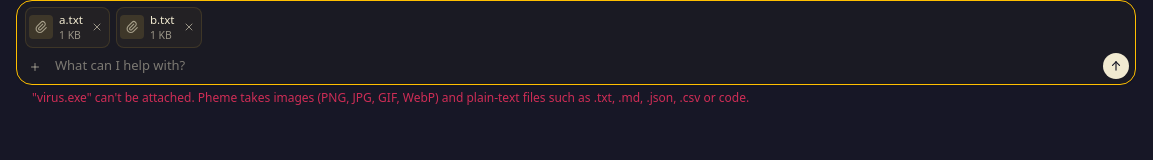
Test: Composer attachments › removes one file; refuses unsupported and oversize ones with a spoken reason, and keeps the good ones
The width and height of the screenshot is (1153, 160).
Earlier steps of the test are not shown.
Expected: the message shows "\"virus.exe\" can't be attached", [32, 89, 749, 106]
Expected: the text "a.txt" is shown, [59, 11, 83, 28]
Click the button named "Remove a.txt" at (97, 27), box [89, 19, 105, 35]
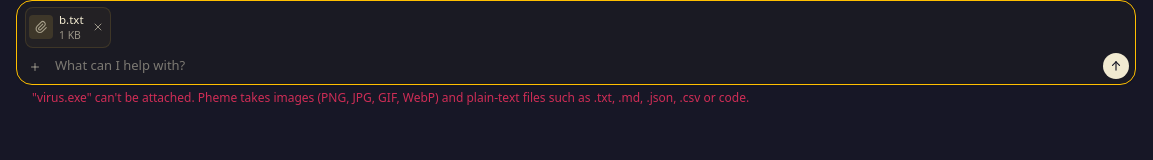
Expected: the text "b.txt" is shown, [59, 11, 84, 28]
Result: the text "a.txt" is gone
